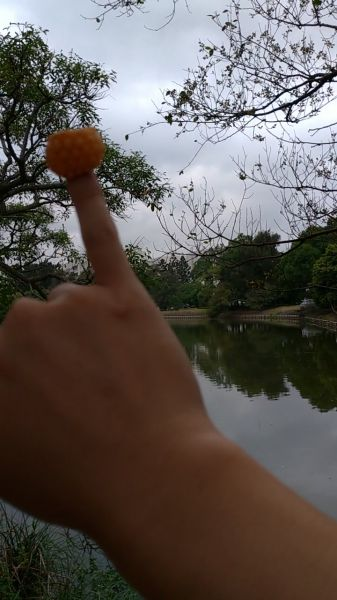eggs: (44, 124, 106, 176)
